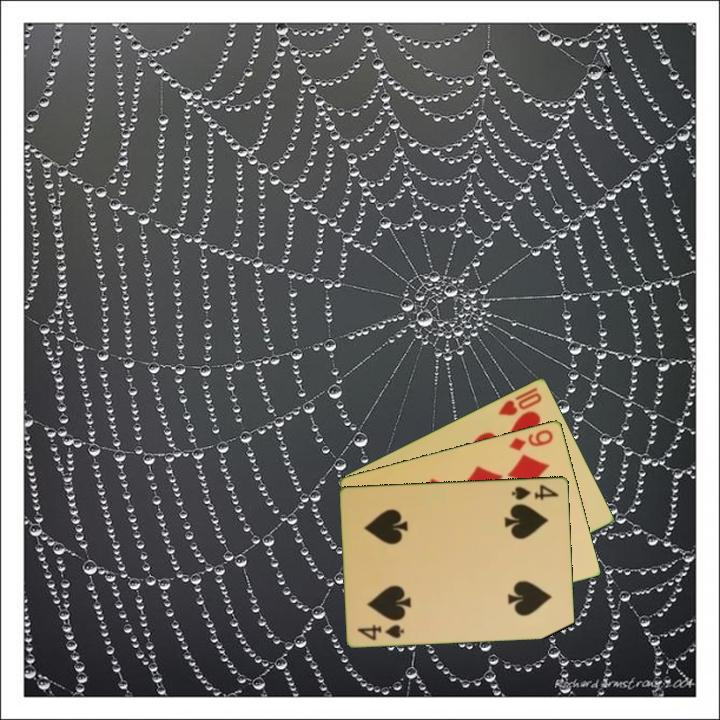10h: (494, 389, 545, 418)
4s: (354, 621, 408, 643), (508, 481, 562, 502)
9d: (505, 426, 556, 453)
